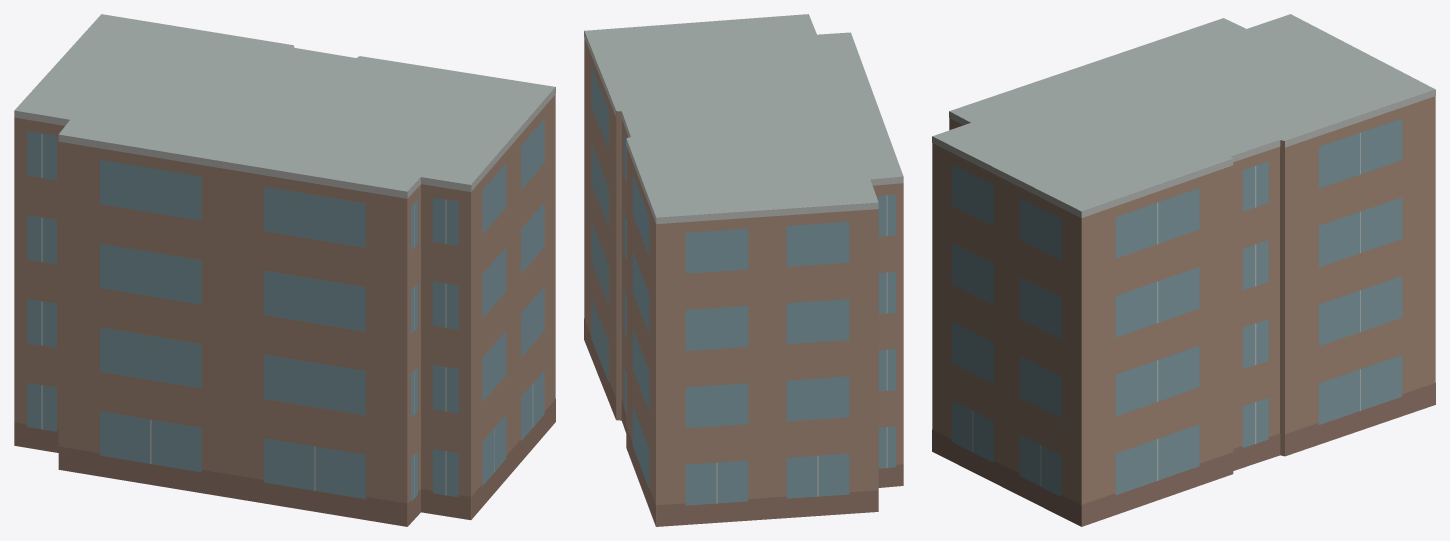
File: survey-upis-32768558.glb
3 renders of one model, left to right at view 1: azimuth 30°, elevation 25°; view 2: azimuth 150°, elevation 25°; view 3: azimuth 270°, elevation 25°, orthographic. The views are drawn at different scales.
Visible parts, largest first — view 1: survey-upis-32768558.tmp; view 2: survey-upis-32768558.tmp; view 3: survey-upis-32768558.tmp.
Part boxes in pixels (x1,y1,x2,y2): survey-upis-32768558.tmp: (14, 14, 555, 526); survey-upis-32768558.tmp: (584, 14, 903, 526); survey-upis-32768558.tmp: (932, 14, 1435, 526).
Bounding box in the file's own units: 15.59 × 11.6 × 16.8.
